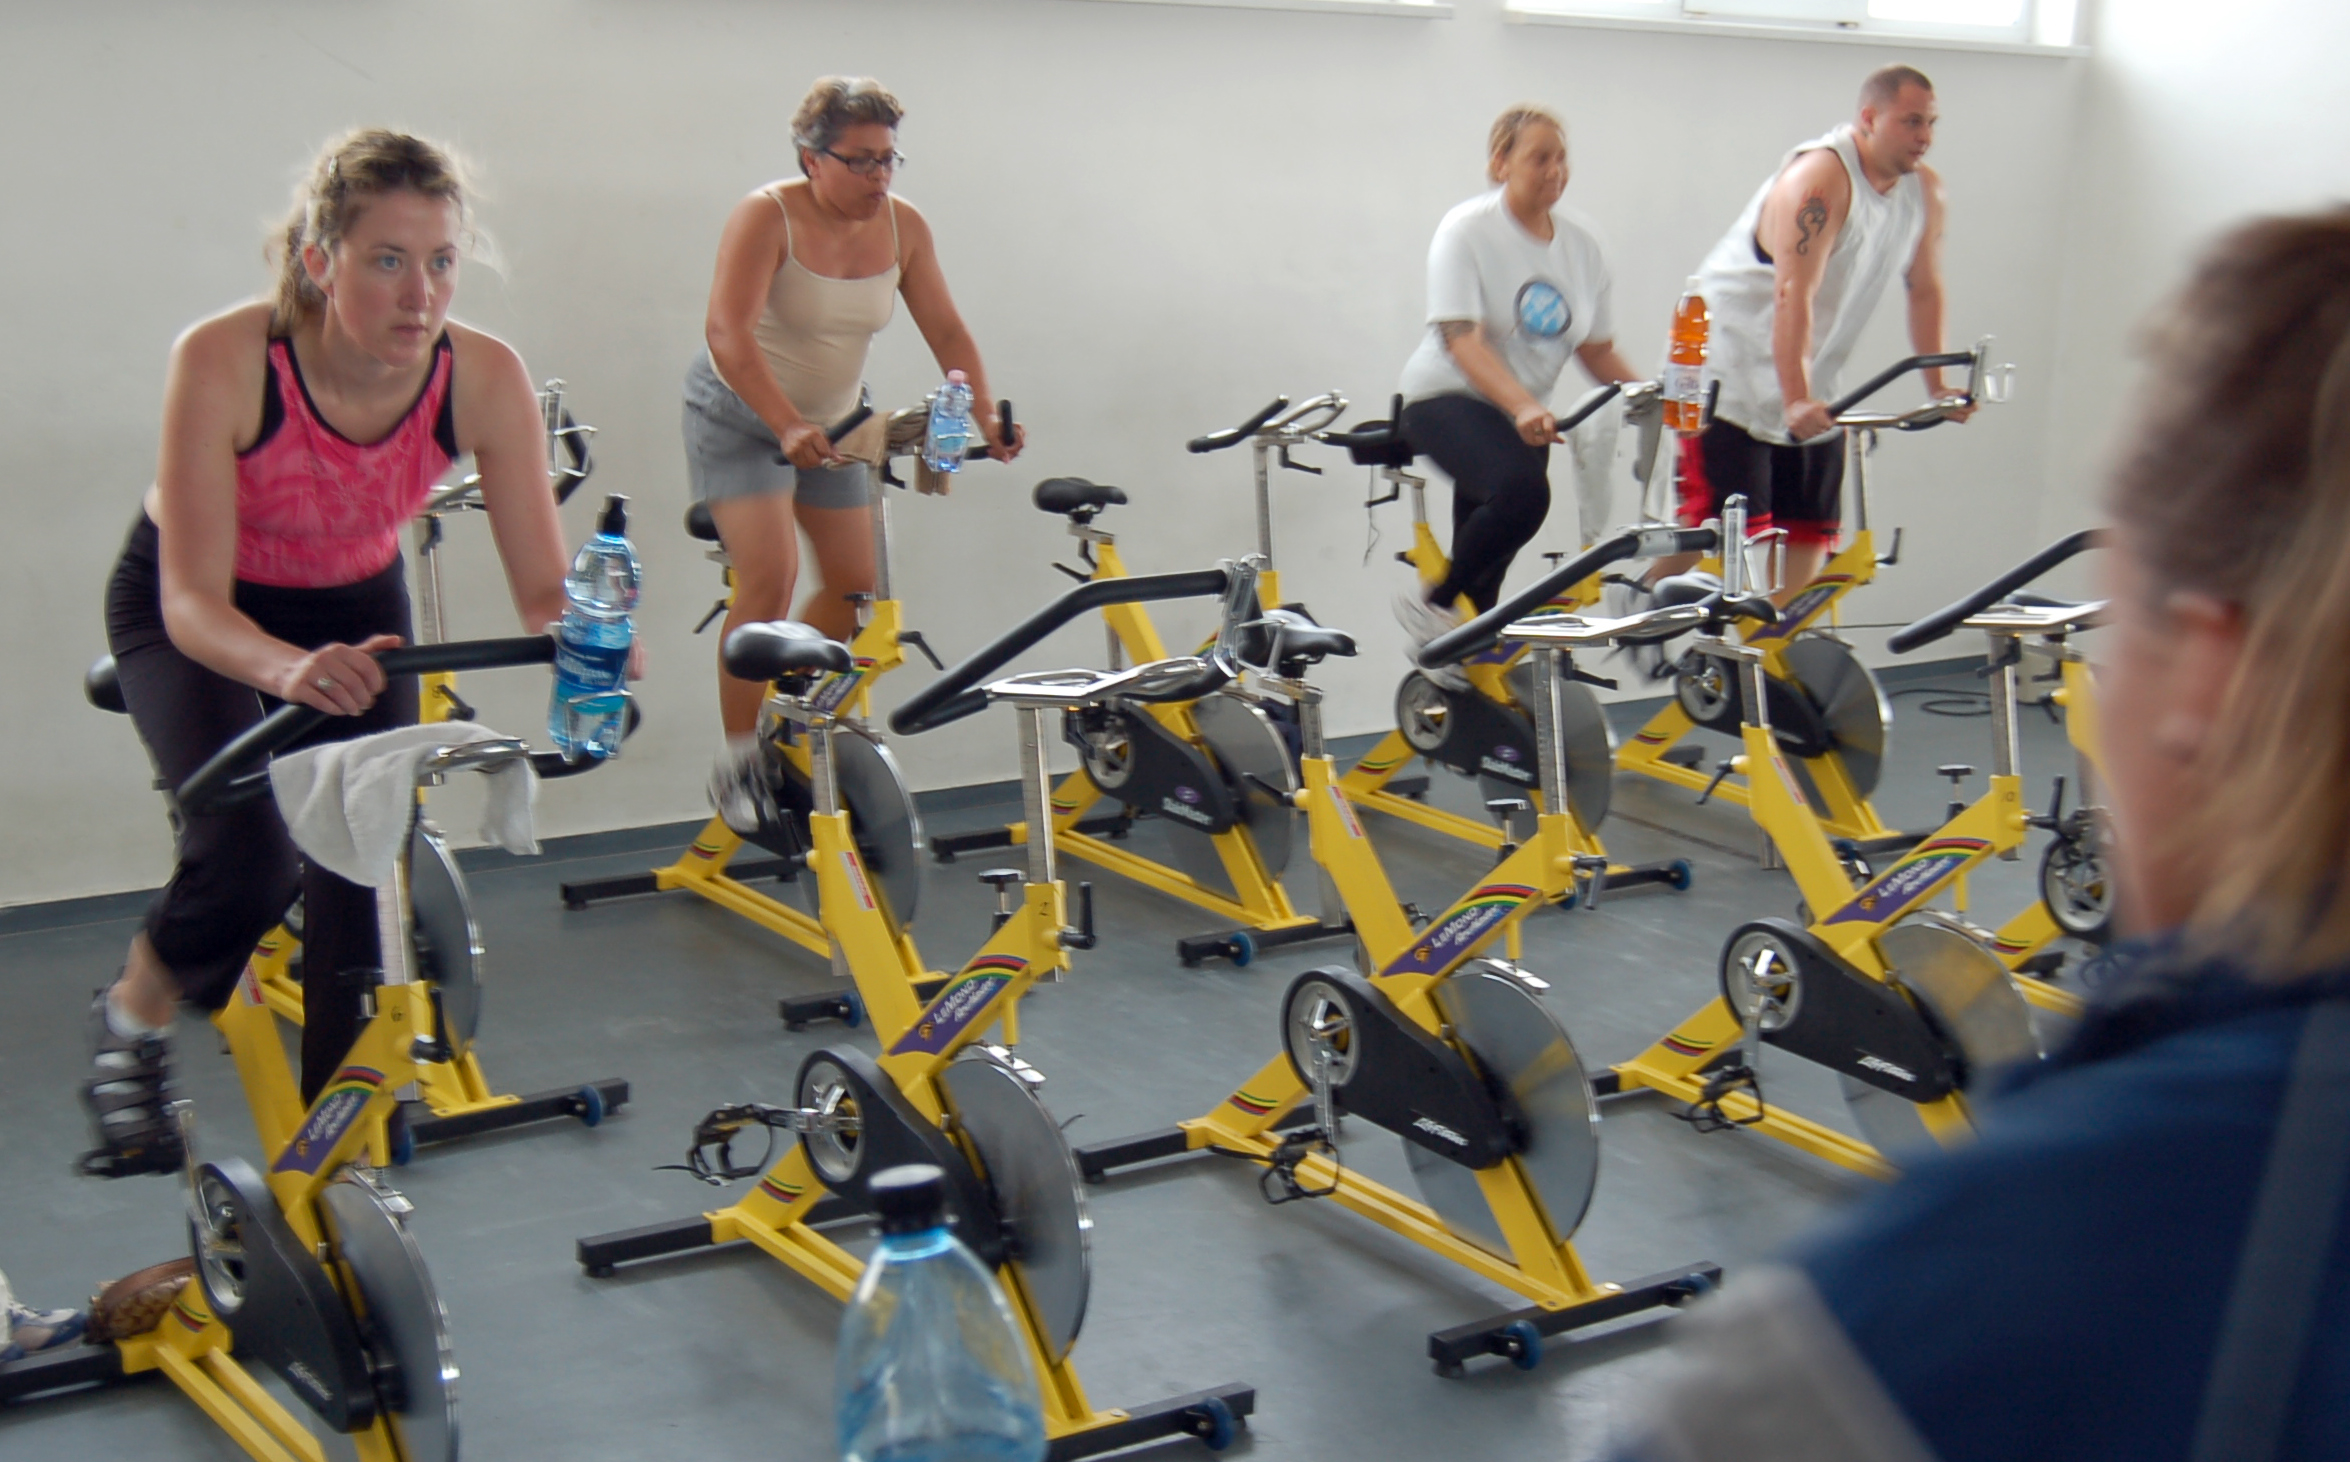gym_bike: (710, 569, 1252, 1433), (1672, 574, 2081, 1225), (1013, 403, 1352, 908)
